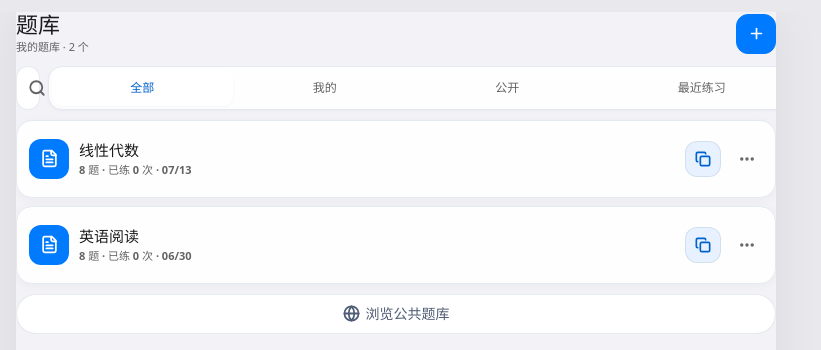
Scenario: CourseList UX polish › searches course content and filters the recently practised subset
Replace the text in the search field labelled "搜索题库、科目或描述" with "英语". click: (396, 88)
box: [16, 66, 776, 110]
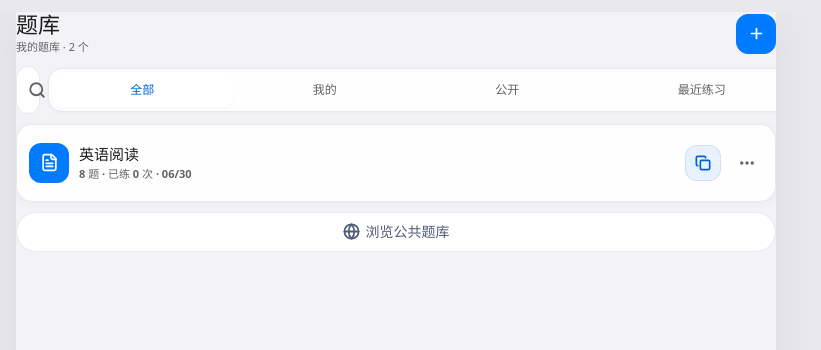
Check: the text "英语阅读" is shown, box [79, 144, 139, 164]
Check: the text "线性代数" is gone
Clear the search field labelled "全部 我的 公开 最近练习". click: (396, 90)
box: [16, 66, 776, 114]
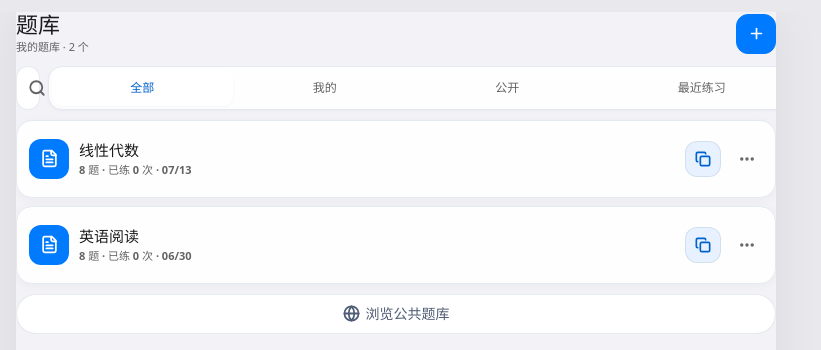
Click the tab "最近练习". click: (702, 88)
box: [600, 70, 804, 106]
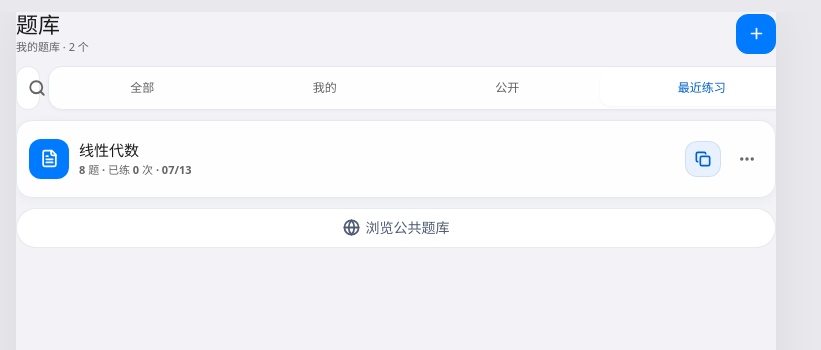
Check: the text "线性代数" is shown, box [79, 140, 139, 160]
Check: the text "英语阅读" is gone
